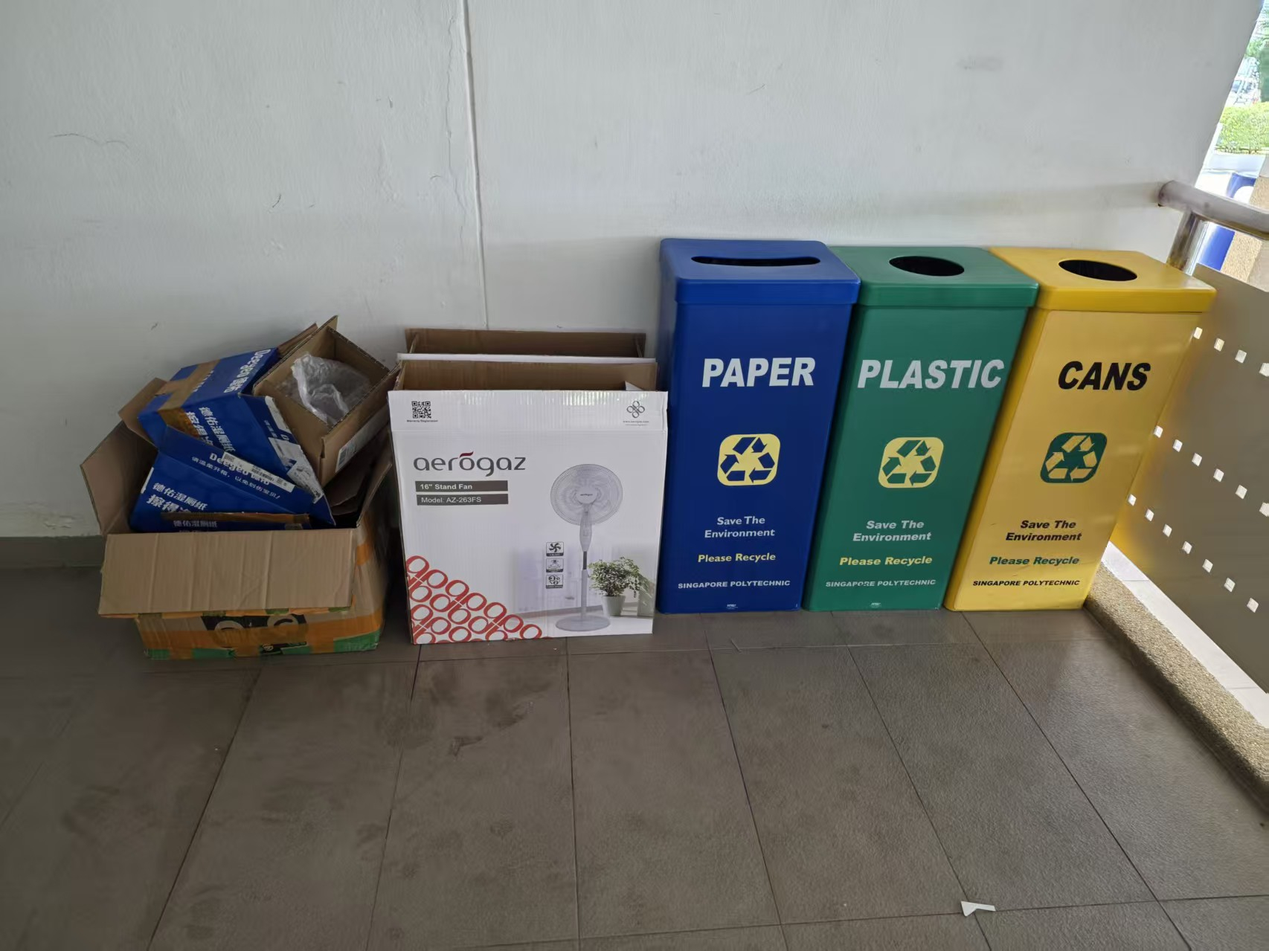bin_empty: (946, 248, 1215, 610), (804, 245, 1038, 610), (656, 239, 858, 613)
bulk_waste: (82, 318, 397, 659), (388, 329, 667, 644)
